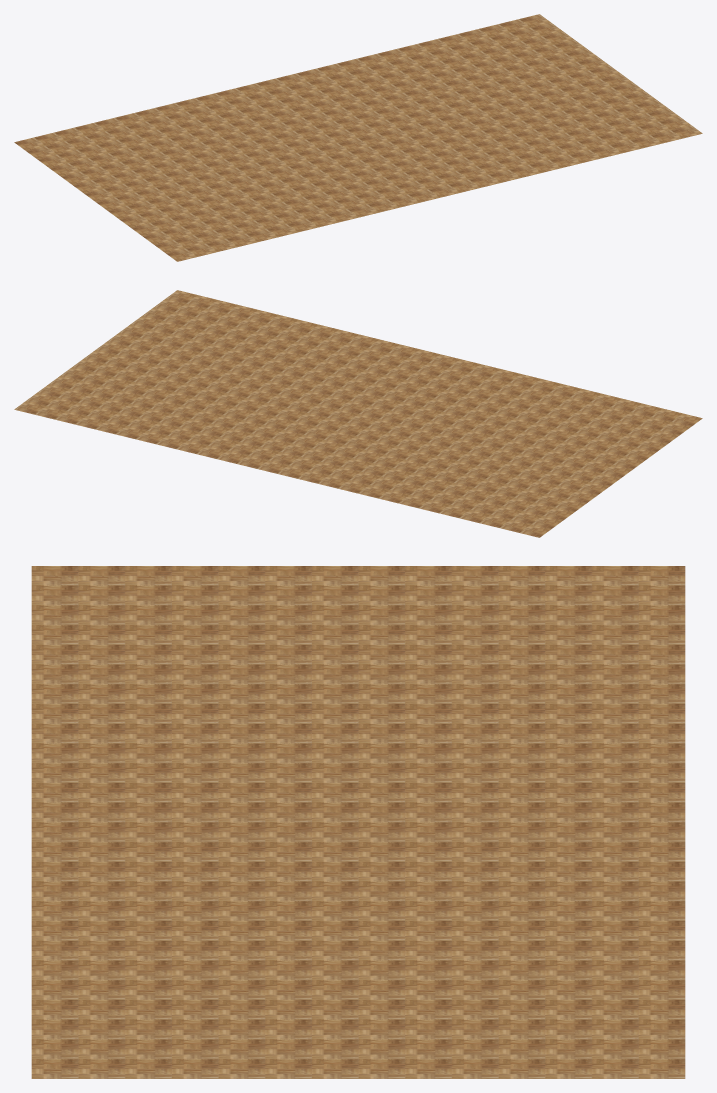
The model's file is Floor.fbx.
3 views of the same model, one above another, from view 1: azimuth 30°, elevation 25°; view 2: azimuth 150°, elevation 25°; view 3: azimuth 270°, elevation 25° (orthographic). The views are drawn at different scales.
Parts seen in each view (by area): view 1: 平面.002; view 2: 平面.002; view 3: 平面.002.
Part boxes in pixels (bbox=[...]): 平面.002: bbox=[14, 14, 702, 261]; 平面.002: bbox=[14, 290, 702, 537]; 平面.002: bbox=[31, 566, 685, 1078].
Size of the model in its own units: 52 by 4.56e-06 by 28.
